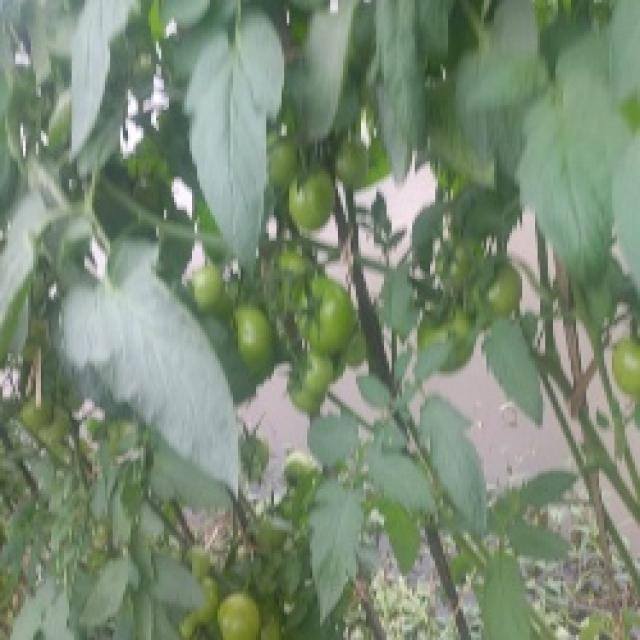tomato: (288, 280, 360, 362), (286, 164, 342, 233), (235, 300, 280, 377), (474, 256, 524, 315), (414, 304, 477, 344), (435, 236, 475, 286), (332, 135, 371, 183), (185, 268, 228, 310), (296, 355, 337, 398), (221, 595, 260, 640), (286, 376, 326, 418), (615, 340, 640, 404), (254, 517, 295, 550), (186, 607, 224, 640), (184, 541, 215, 575), (284, 451, 306, 492), (29, 401, 59, 430)
